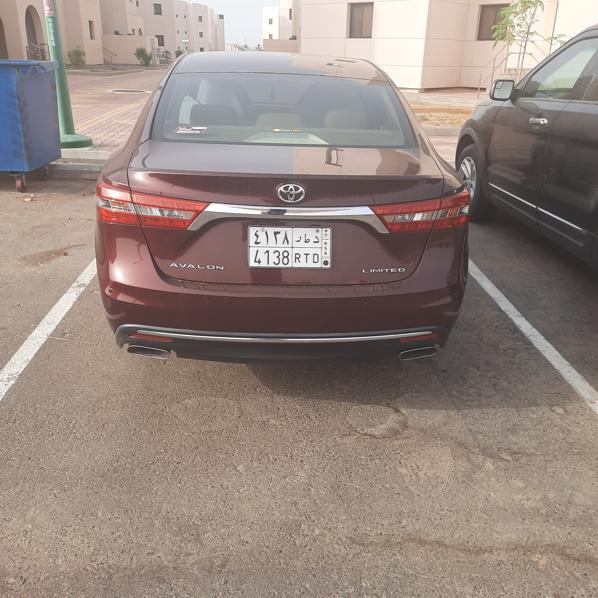numberplate: (249, 226, 332, 267)
